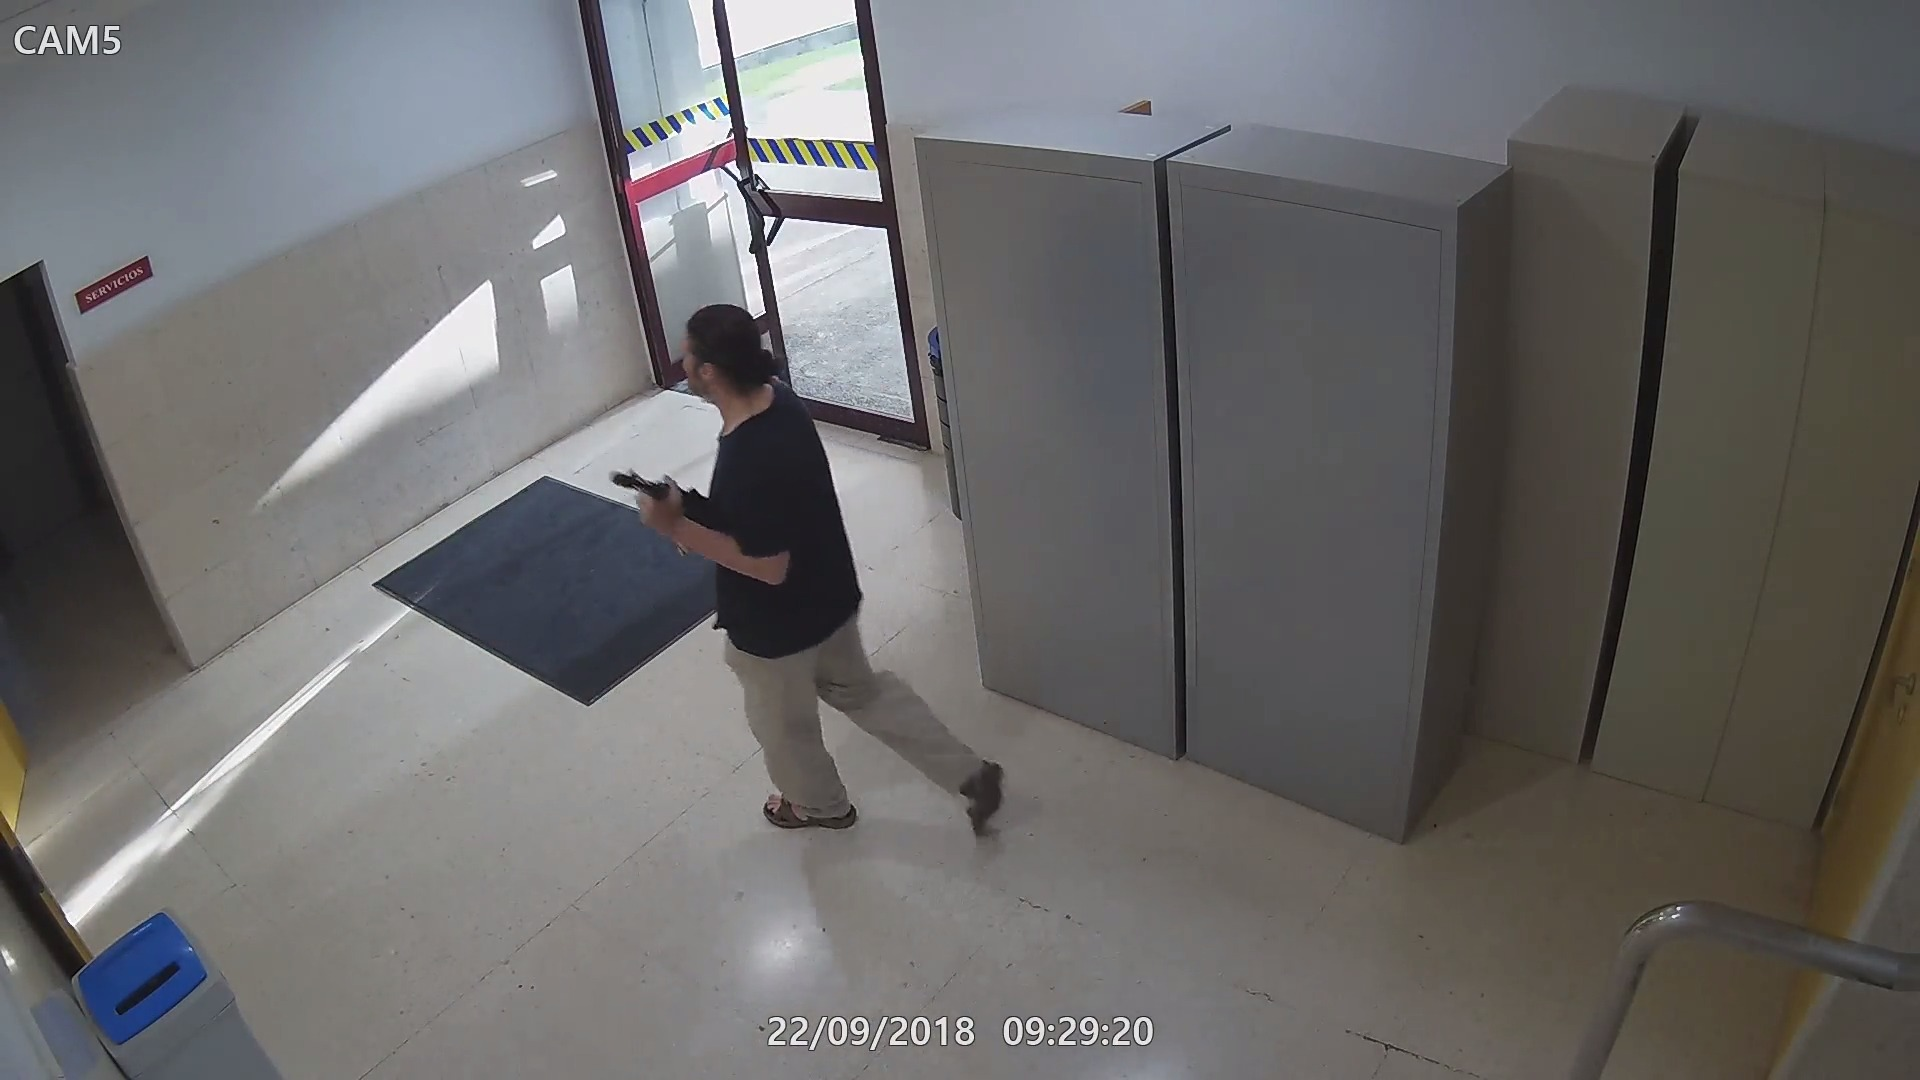Short_rifle: (604, 462, 716, 564)
